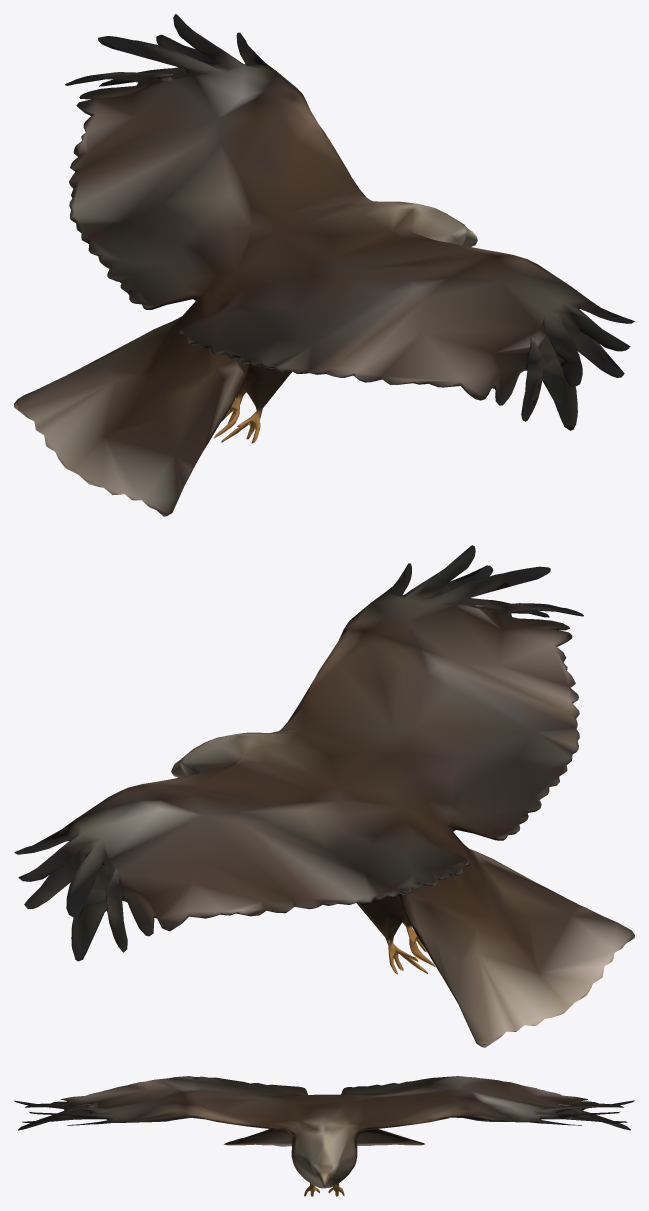
File: milano.glb
3 renders of one model, top to bottom at view 1: azimuth 30°, elevation 25°; view 2: azimuth 150°, elevation 25°; view 3: azimuth 270°, elevation 25°, orthographic. The views are drawn at different scales.
Parts seen in each view (by area): view 1: fauna/milano.glb; view 2: fauna/milano.glb; view 3: fauna/milano.glb.
Part boxes in pixels (x1,y1,x2,y2): fauna/milano.glb: [14, 14, 634, 516]; fauna/milano.glb: [14, 545, 634, 1047]; fauna/milano.glb: [14, 1076, 634, 1196].
Size of the model in its own units: 0.9999 by 0.5245 by 2.05.
